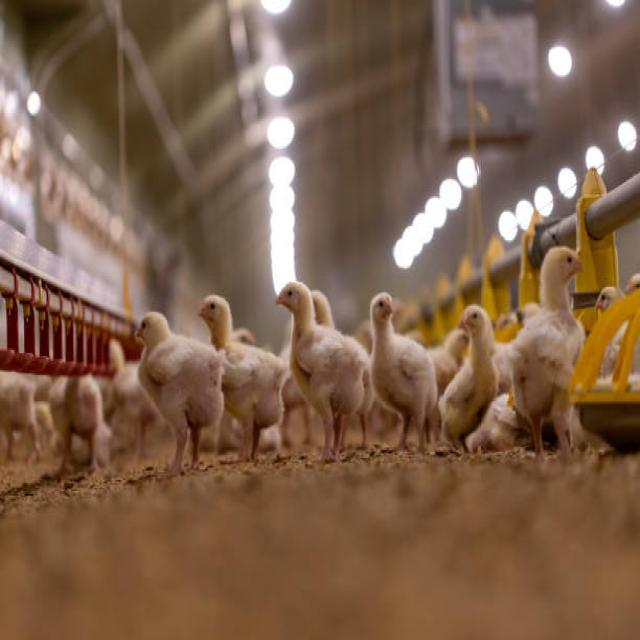Healthy: (505, 240, 590, 478), (274, 267, 373, 470), (114, 306, 231, 471), (362, 290, 451, 450)
